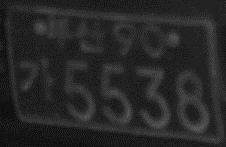0: (140, 21, 168, 61)
3: (135, 64, 171, 127)
5: (98, 61, 132, 128), (63, 58, 97, 124)
8: (173, 69, 211, 135)
9: (113, 21, 139, 55)
가: (18, 55, 56, 104)
부산_O: (44, 12, 106, 53)
